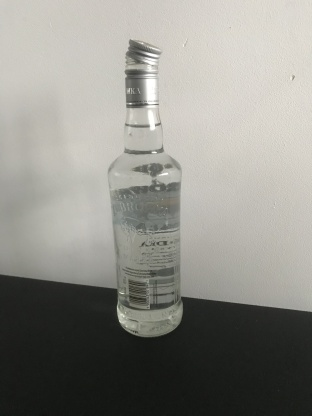nakretka: (123, 36, 162, 108)
